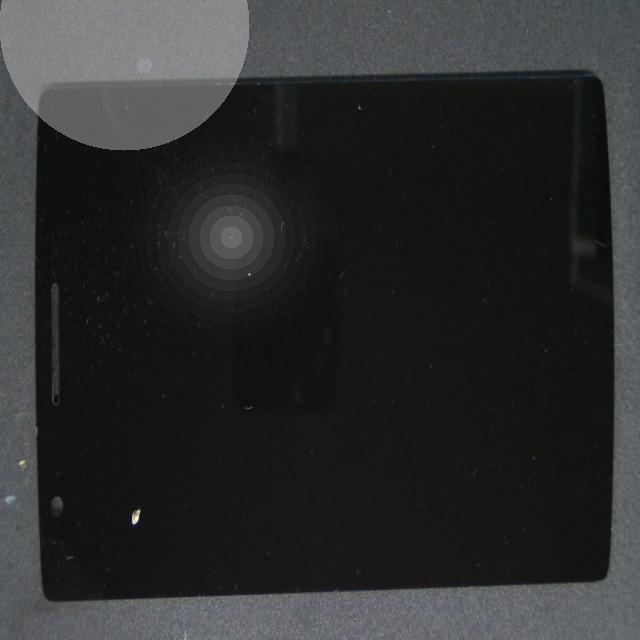stain: (74, 243, 206, 640)
